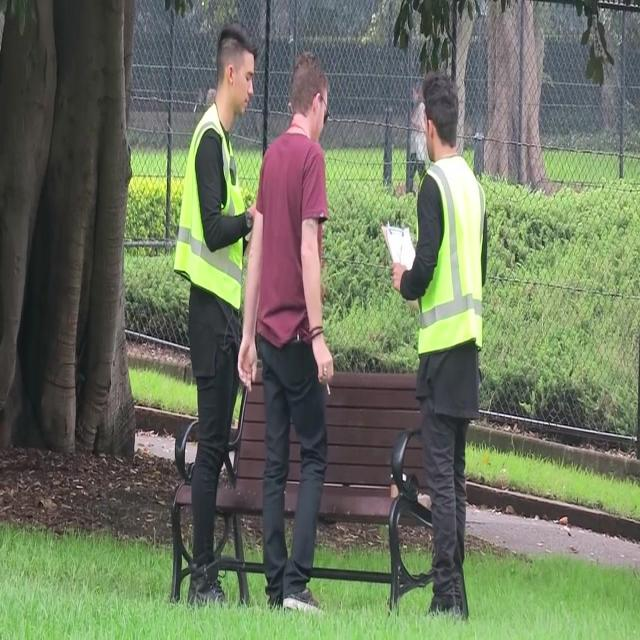Reflective-Jacket: (168, 103, 256, 321), (404, 151, 490, 365)
